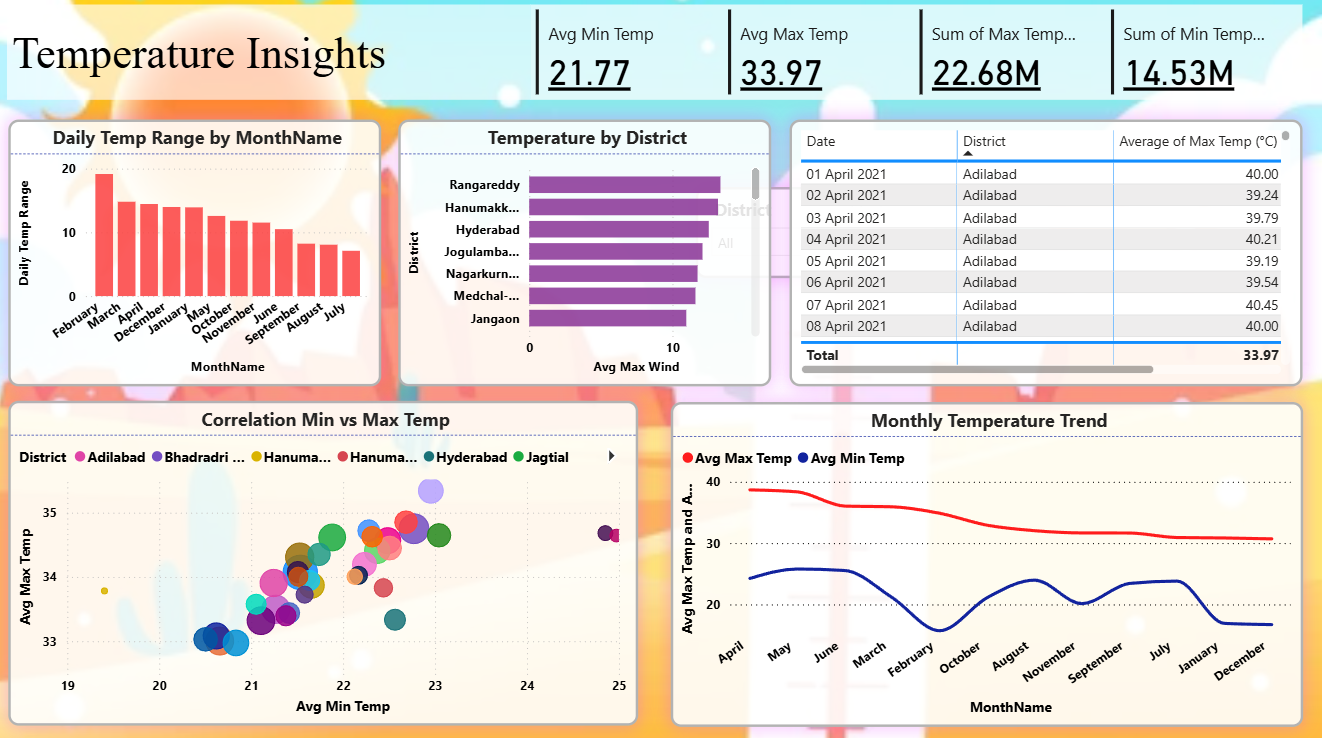

This screenshot's page, from the dashboard's own definition file:
{"tool":"powerbi","page":{"name":"2 – Temperature Insights","canvas":[1280,720],"ordinal":1},"visuals":[{"type":"textbox","box":[10.1,11.5,505.4,92.2],"z":0},{"type":"lineChart","title":"Monthly Temperature Trend","fields":{"Category":["Date.MonthName"],"Y":["Date.Avg Max Temp","Date.Avg Min Temp"]},"box":[650,395.1,610,313.3],"z":1000},{"type":"slicer","fields":{"Values":["Weather Data.District"]},"box":[673.9,188.6,180,87.8],"z":2000},{"type":"clusteredBarChart","title":"Temperature by District","fields":{"Category":["Weather Data.District"],"Y":["Date.Avg Max Wind"]},"box":[387.4,122.7,360.4,257.4],"z":3000},{"type":"scatterChart","title":"Correlation Min vs Max Temp","fields":{"X":["Date.Avg Min Temp"],"Y":["Date.Avg Max Temp"],"Series":["Weather Data.District"],"Size":["Date.Total Rain (mm)"]},"box":[10.6,395.1,608,313.4],"z":4000},{"type":"clusteredColumnChart","fields":{"Category":["Date.MonthName"],"Y":["Date.Daily Temp Range"]},"box":[10.6,122.7,360,257.4],"z":5000},{"type":"tableEx","fields":{"Values":["Weather Data.Date","Weather Data.District","Avg(Weather Data.Max Temp (°C))","Avg(Weather Data.Min Temp (°C))"]},"box":[764.7,122.7,495.1,257.4],"z":6000},{"type":"cardVisual","fields":{"Data":["Date.Avg Min Temp","Date.Avg Max Temp","Sum(Weather Data.Max Temp (°C))","Sum(Weather Data.Min Temp (°C))"]},"box":[515.5,11.5,744.5,92.2],"z":7000}]}

Visuals, with their boxes in screenshot pixels (x1, y1, x2, y2), scaled from the page's 1280x720 canvas onto the 1322x738 screenshot:
textbox: {"left": 10, "top": 12, "right": 532, "bottom": 106}
"Monthly Temperature Trend" lineChart: {"left": 671, "top": 405, "right": 1301, "bottom": 726}
slicer - Weather Data.District: {"left": 696, "top": 193, "right": 882, "bottom": 283}
"Temperature by District" clusteredBarChart: {"left": 400, "top": 126, "right": 772, "bottom": 390}
"Correlation Min vs Max Temp" scatterChart: {"left": 11, "top": 405, "right": 639, "bottom": 726}
clusteredColumnChart - Date.MonthName x Date.Daily Temp Range: {"left": 11, "top": 126, "right": 383, "bottom": 390}
tableEx - Weather Data.Date x Weather Data.District: {"left": 790, "top": 126, "right": 1301, "bottom": 390}
cardVisual - Date.Avg Min Temp x Date.Avg Max Temp: {"left": 532, "top": 12, "right": 1301, "bottom": 106}
